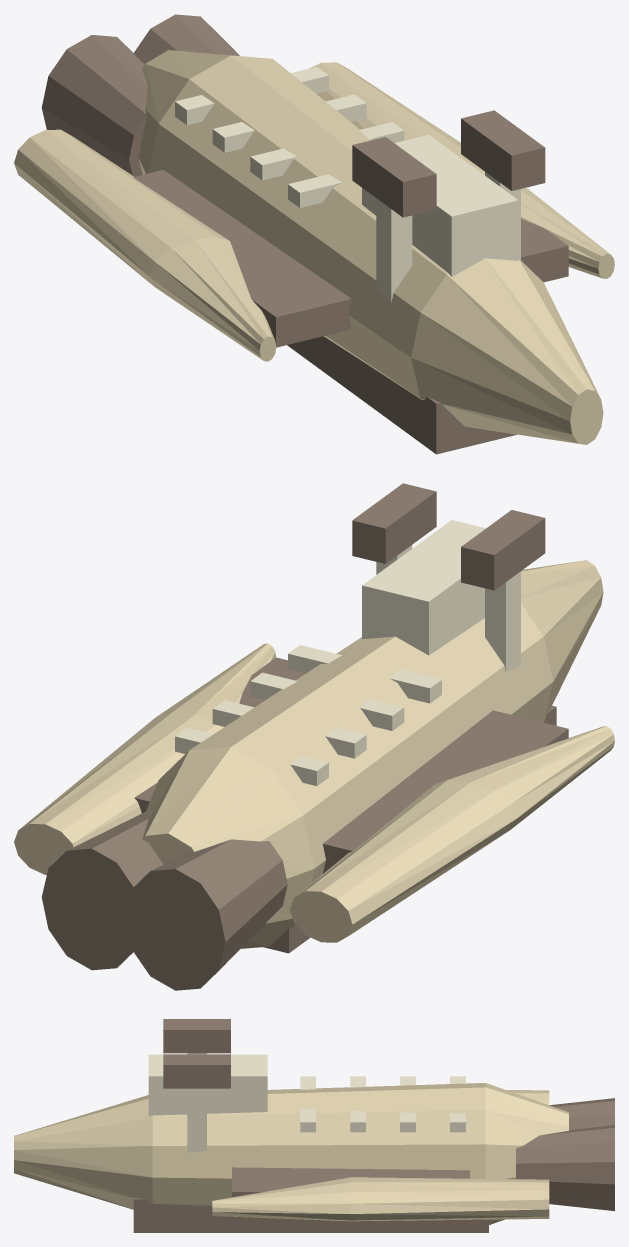
3 views of the same model, one above another, from view 1: azimuth 30°, elevation 25°; view 2: azimuth 150°, elevation 25°; view 3: azimuth 270°, elevation 25° (orthographic). The views are drawn at different scales.
Size of the model in its own units: 3.1 by 2.18 by 6.61.
